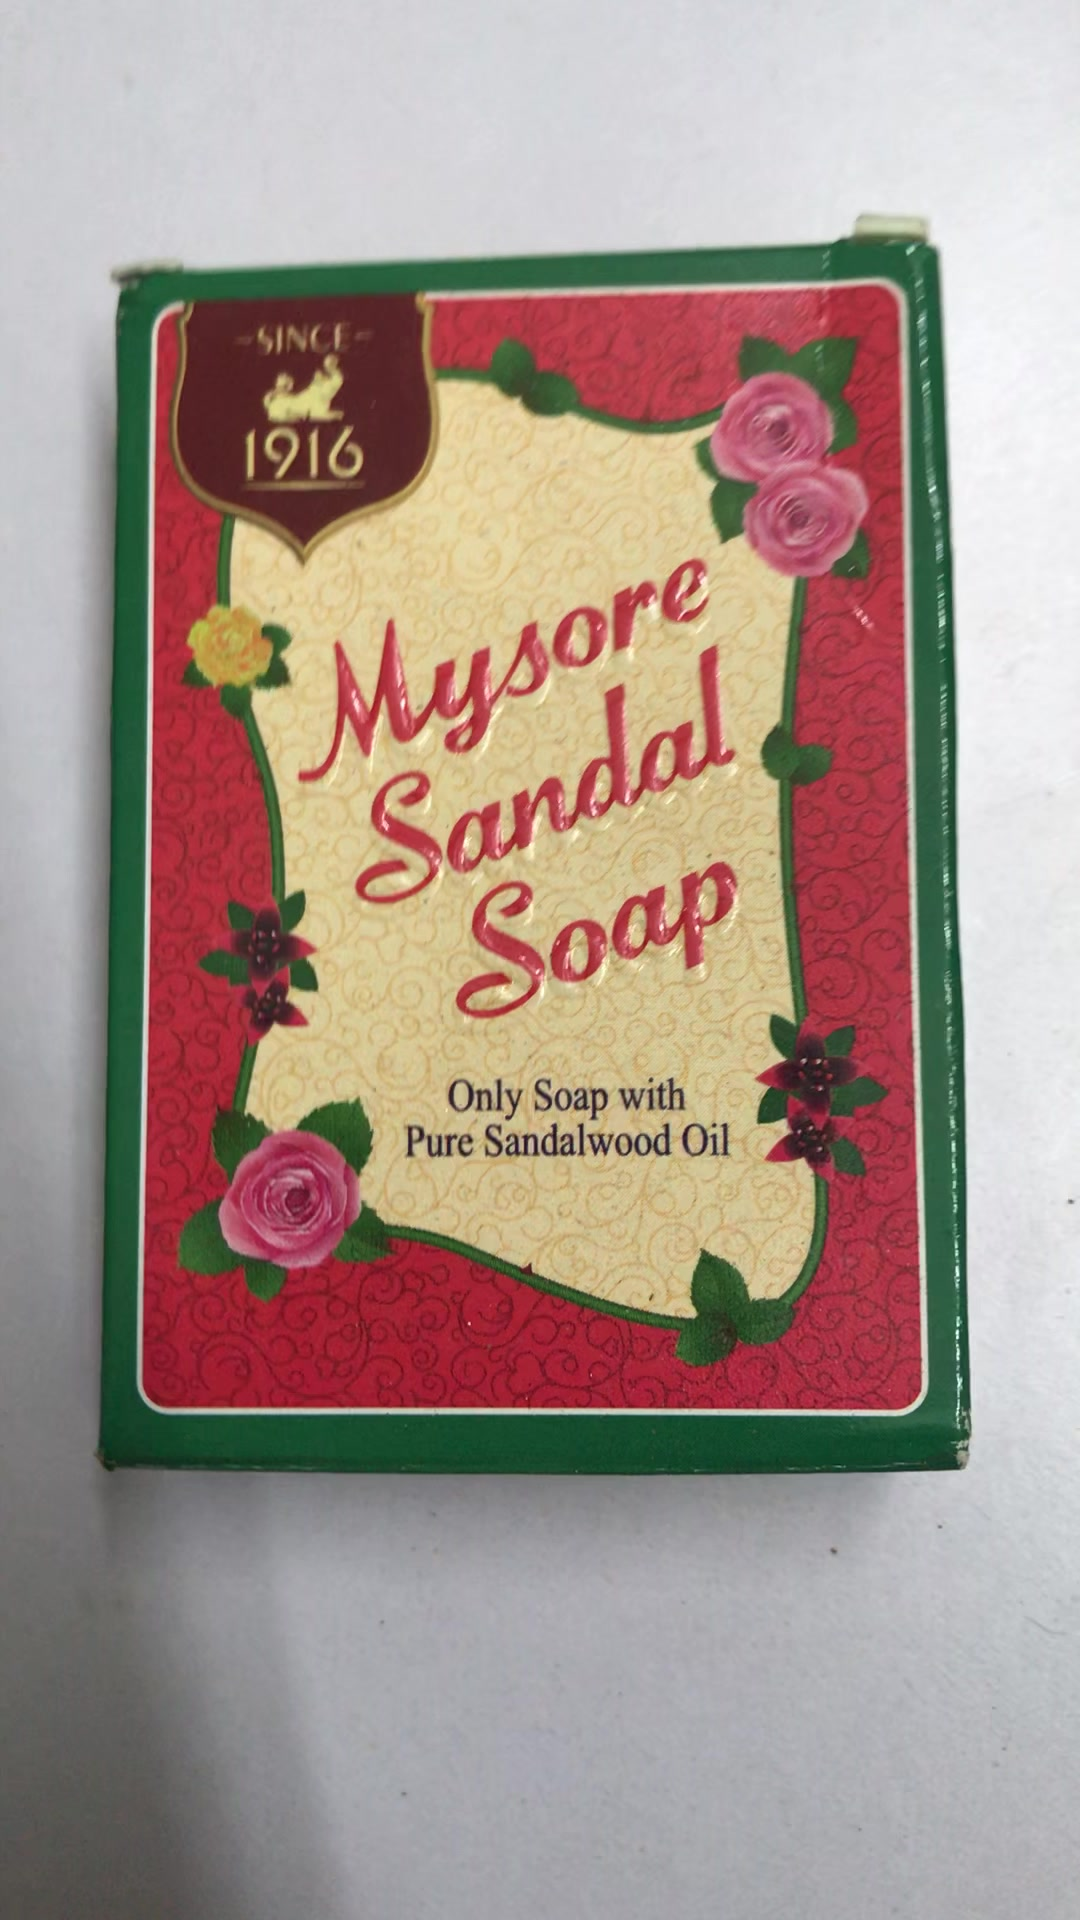mysore sandal soap: (105, 258, 971, 1458)
